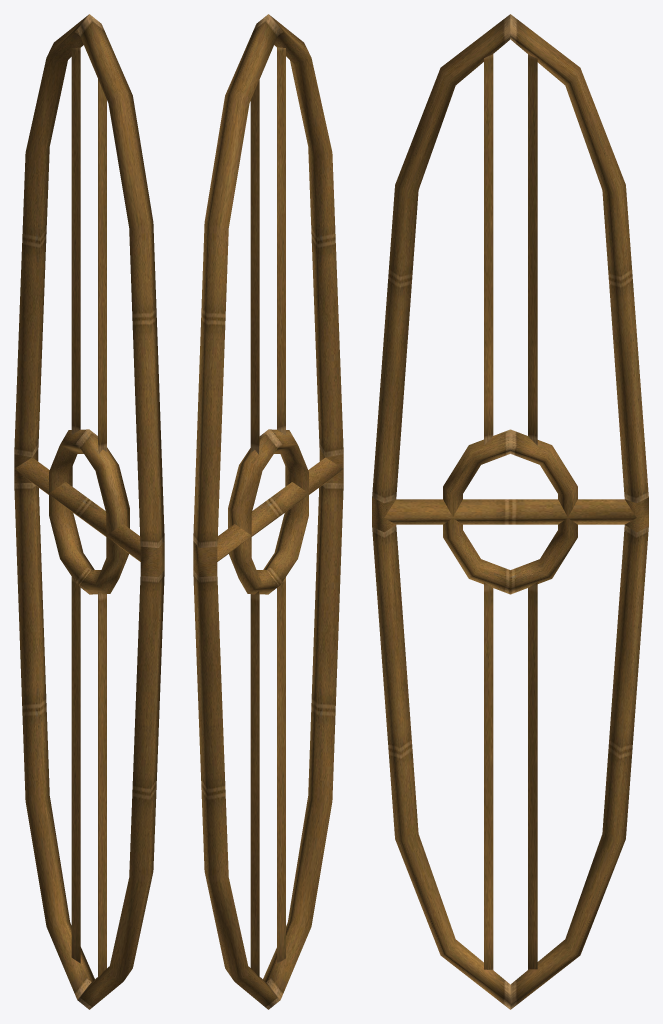
The model's file is thm_nboo_gungan_shield_s01_l1.fbx.
3 views of the same model, side by side, from view 1: azimuth 30°, elevation 25°; view 2: azimuth 150°, elevation 25°; view 3: azimuth 270°, elevation 25° (orthographic).
Parts seen in each view (by area): view 1: mesh_node; view 2: mesh_node; view 3: mesh_node.
Boxes of the visible parts, box(x1,y1,x2,y2) form: mesh_node: box(14, 14, 164, 1009); mesh_node: box(193, 14, 343, 1009); mesh_node: box(372, 14, 648, 1009).
Size of the model in its own units: 0.2216 by 8.7 by 2.19.
